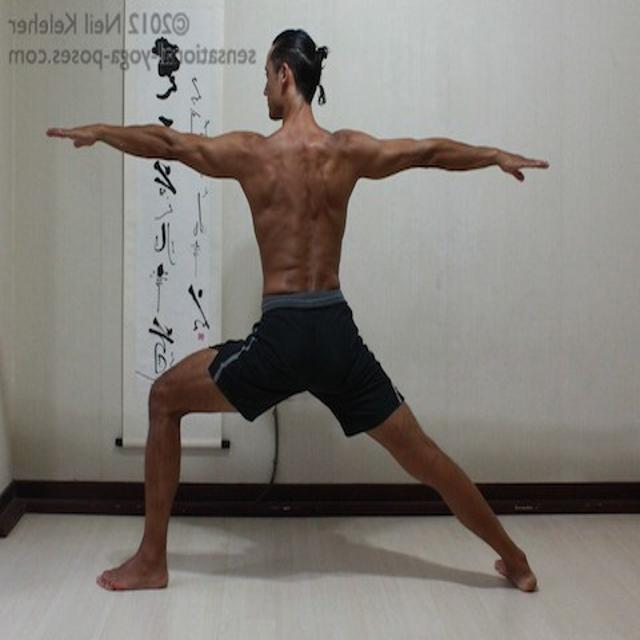Warrior_II: (45, 30, 555, 593)
